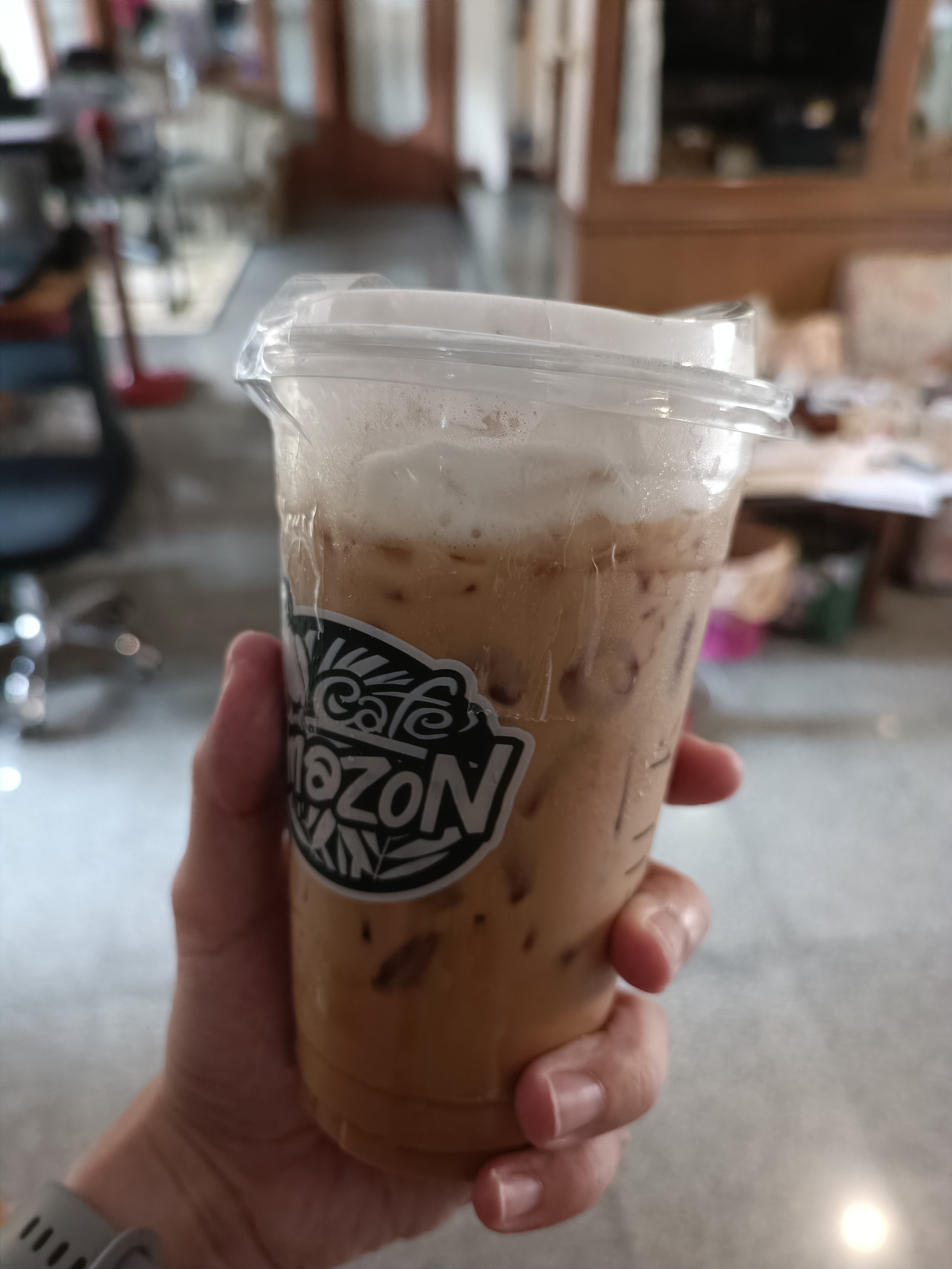plastic: (173, 249, 828, 1169)
